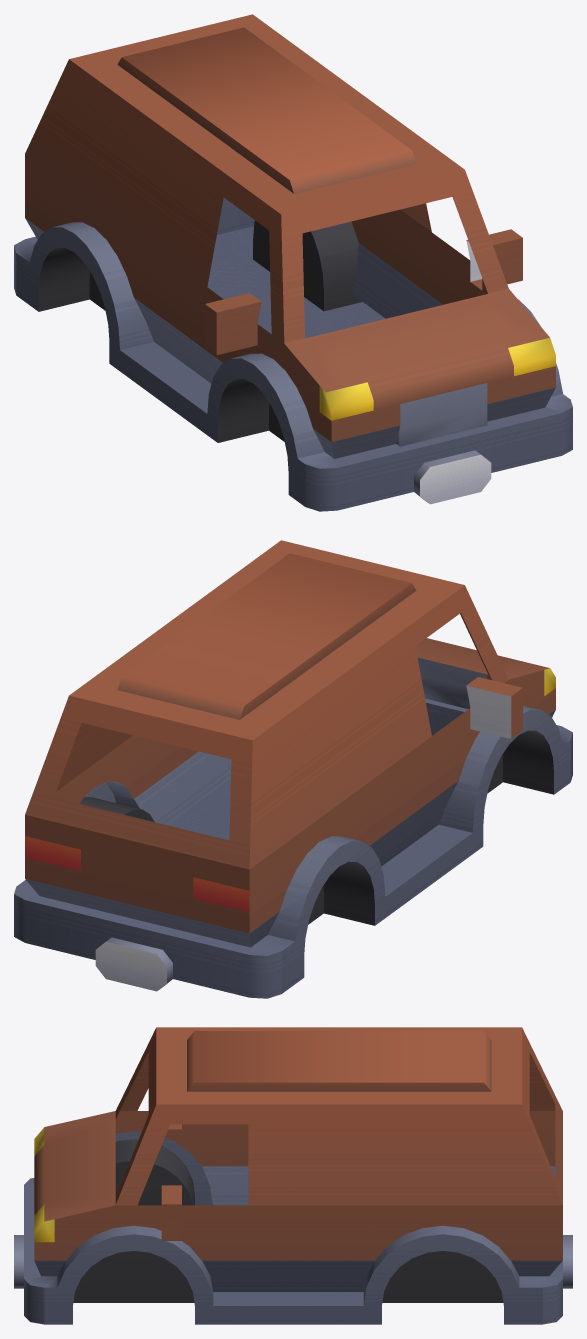
Rendered from vanBodyDarkbrown.glb.
3 renders of one model, top to bottom at view 1: azimuth 30°, elevation 25°; view 2: azimuth 150°, elevation 25°; view 3: azimuth 270°, elevation 25°, orthographic. The views are drawn at different scales.
Visible parts, largest first — view 1: vanbody; view 2: vanbody; view 3: vanbody.
Part boxes in pixels (box(x1,y1,x2,y2)): vanbody: box(14, 14, 572, 511); vanbody: box(14, 540, 572, 998); vanbody: box(14, 1027, 572, 1324).
Size of the model in its own units: 1.5 by 1.2 by 2.75.
Materials: 1 (1 with a texture image).
